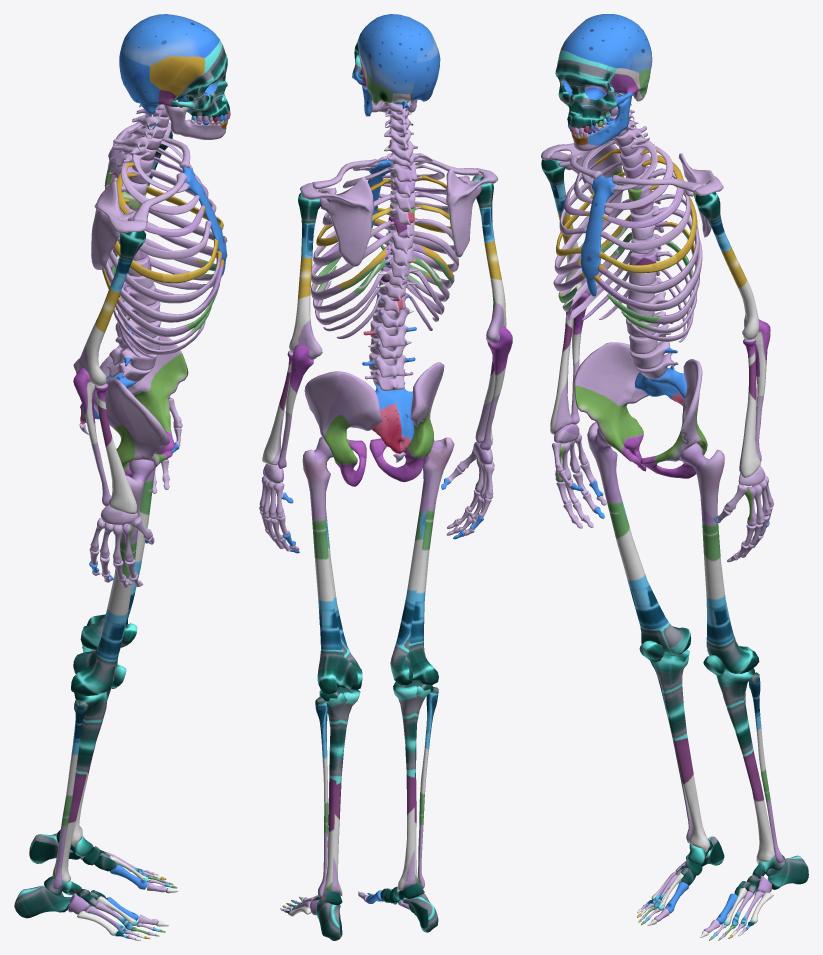
The model's file is skeleton.gltf.
The picture shows the model from 3 angles, left to right: view 1: azimuth 30°, elevation 25°; view 2: azimuth 150°, elevation 25°; view 3: azimuth 270°, elevation 25°; orthographic projection. The views are drawn at different scales.
Visible parts, largest first — view 1: human_skeleton.1; view 2: human_skeleton.1; view 3: human_skeleton.1.
Boxes of the visible parts, x1,y1,x2,y2 form: human_skeleton.1: (14, 14, 230, 940); human_skeleton.1: (259, 14, 512, 940); human_skeleton.1: (541, 14, 808, 940).
Bounding box in the file's own units: 0.618 × 2.97 × 0.8016.
